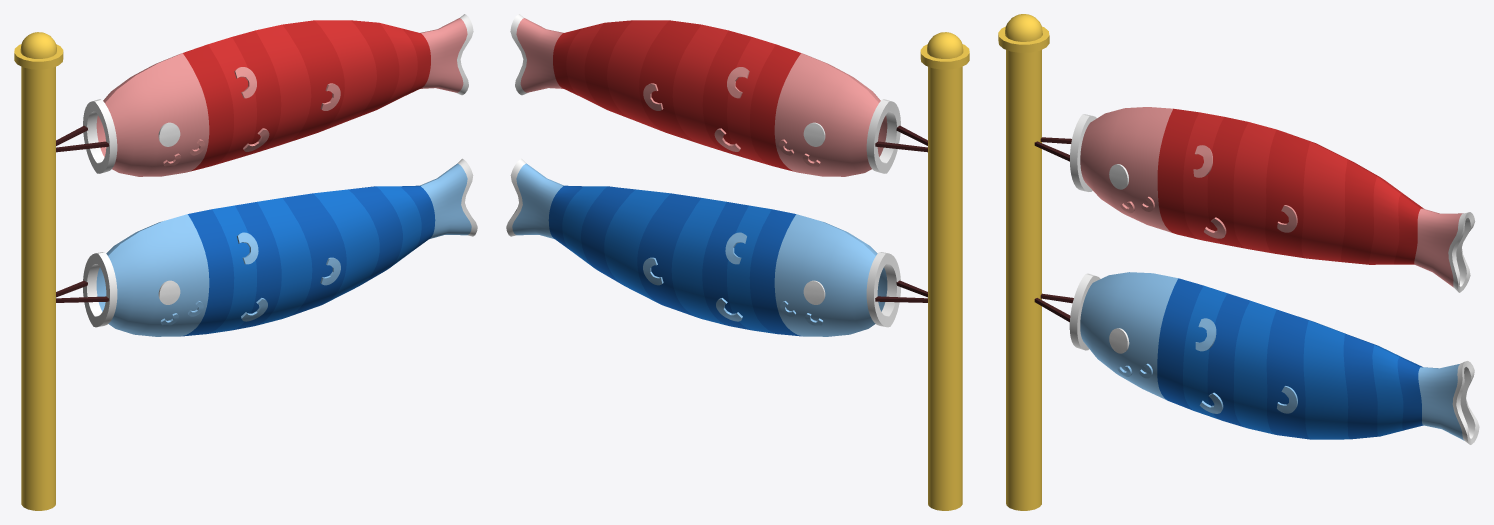
The model's file is carp_streamer.glb.
The picture shows the model from 3 angles, left to right: view 1: azimuth 30°, elevation 25°; view 2: azimuth 150°, elevation 25°; view 3: azimuth 330°, elevation 25°; orthographic projection. The views are drawn at different scales.
Parts seen in each view (by area): view 1: Sphere.517, Sphere.518, Cylinder.470, Circle.2512, Circle.2513; view 2: Sphere.517, Sphere.518, Cylinder.470, Circle.2512, Circle.2513; view 3: Sphere.517, Sphere.518, Cylinder.470, Circle.2512, Circle.2513.
Part boxes in pixels (x1,y1,x2,y2): Sphere.517: [83, 158, 477, 336]; Sphere.518: [83, 14, 473, 176]; Cylinder.470: [14, 32, 63, 510]; Circle.2512: [158, 232, 340, 326]; Circle.2513: [158, 67, 340, 167]; Sphere.517: [506, 158, 900, 336]; Sphere.518: [510, 14, 900, 176]; Cylinder.470: [920, 32, 969, 510]; Circle.2512: [643, 232, 825, 326]; Circle.2513: [643, 67, 825, 167]; Sphere.517: [1069, 272, 1479, 444]; Sphere.518: [1070, 107, 1475, 292]; Cylinder.470: [998, 14, 1049, 510]; Circle.2512: [1109, 318, 1297, 413]; Circle.2513: [1109, 145, 1297, 238].
Size of the model in its own units: 2.31 by 2.28 by 0.3753.
1 material, 1 textured.
